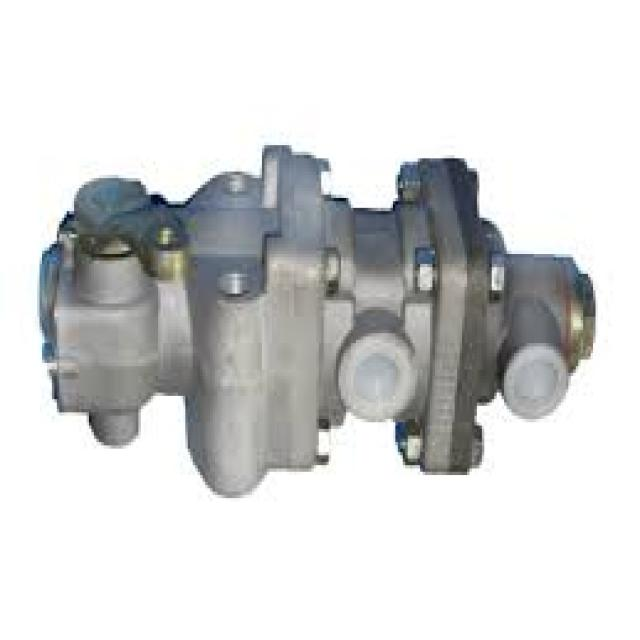video_frame: (35, 134, 598, 500)
